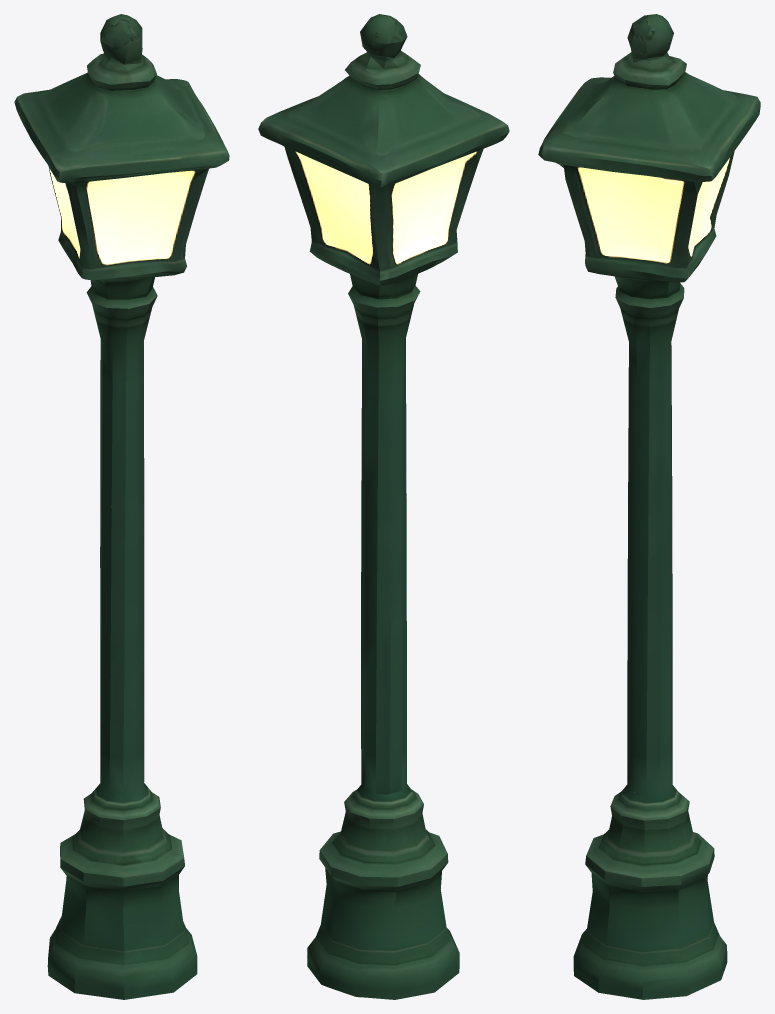
The model's file is lamp.glb.
The picture shows the model from 3 angles, left to right: view 1: azimuth 30°, elevation 25°; view 2: azimuth 150°, elevation 25°; view 3: azimuth 270°, elevation 25°; orthographic projection.
Visible parts, largest first — view 1: lamp; view 2: lamp; view 3: lamp.
Boxes of the visible parts, bbox=[...] form: lamp: bbox=[14, 14, 229, 999]; lamp: bbox=[258, 14, 509, 999]; lamp: bbox=[538, 14, 760, 999].
Size of the model in its own units: 0.6663 by 3.2 by 0.6748.
Materials: 1 (1 with a texture image).
